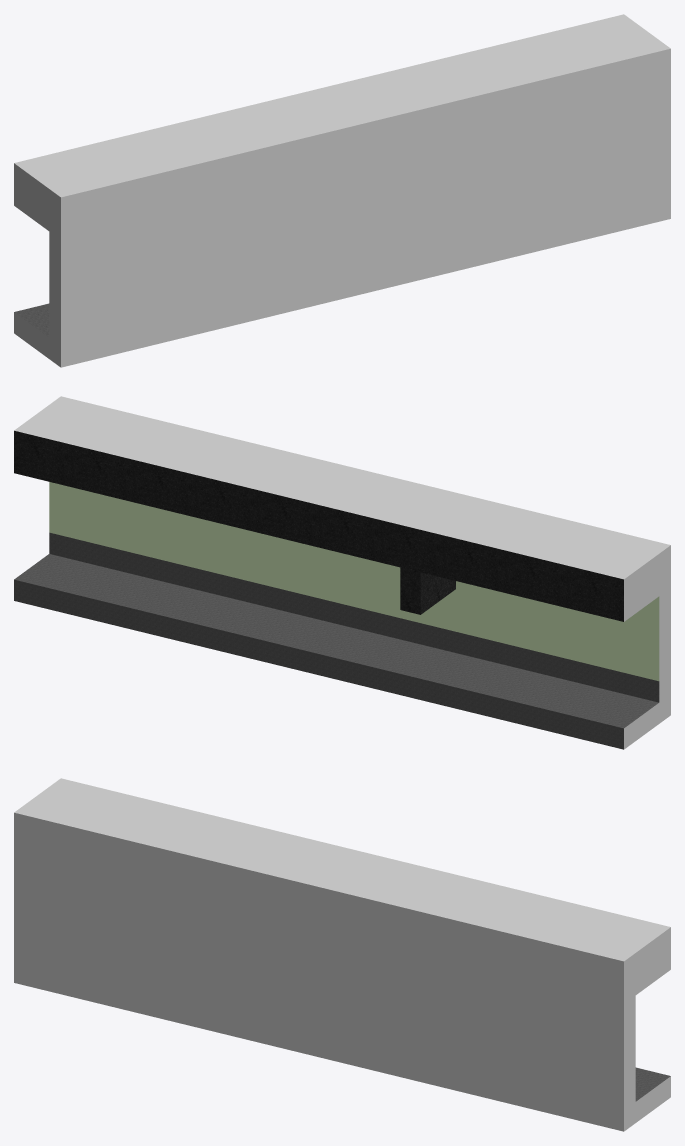
The model's file is lvl1_metric.fbx.
The picture shows the model from 3 angles, top to bottom: view 1: azimuth 30°, elevation 25°; view 2: azimuth 150°, elevation 25°; view 3: azimuth 330°, elevation 25°; orthographic projection.
Parts seen in each view (by area): view 1: Model; view 2: Model; view 3: Model.
Boxes of the visible parts, x1,y1,x2,y2 form: Model: [14, 14, 670, 367]; Model: [14, 396, 670, 749]; Model: [14, 778, 670, 1131].
Size of the model in its own units: 30 by 8 by 4.
